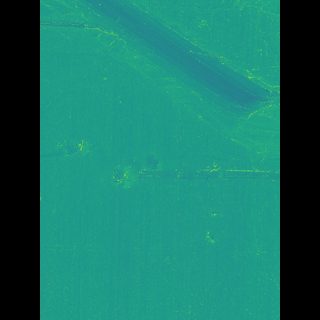Loch: (70, 0, 249, 162), (141, 157, 250, 197), (120, 151, 160, 193), (81, 133, 108, 165)
